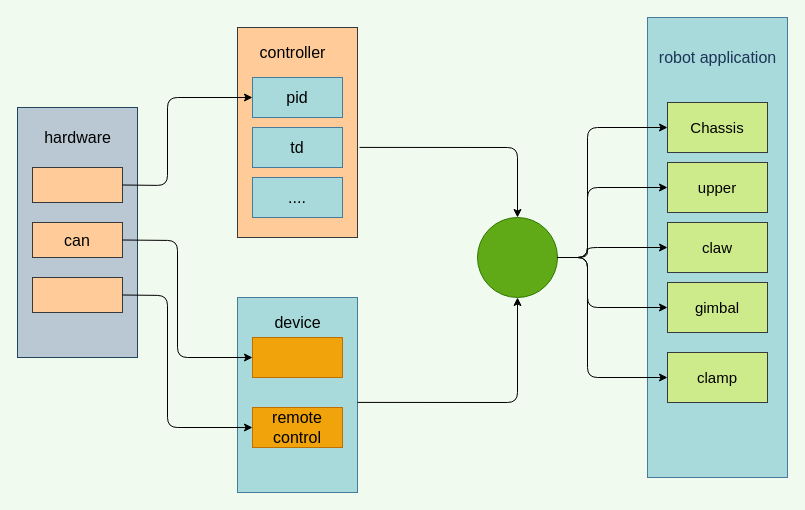
This 805x510 diagram has some shape labels left out. Here are the shapes that lost their labels. From the top down, the box of each, then its label:
(32, 166, 122, 202): dwt
(476, 216, 558, 298): control func
(32, 276, 122, 312): uart
(252, 336, 342, 378): motor
